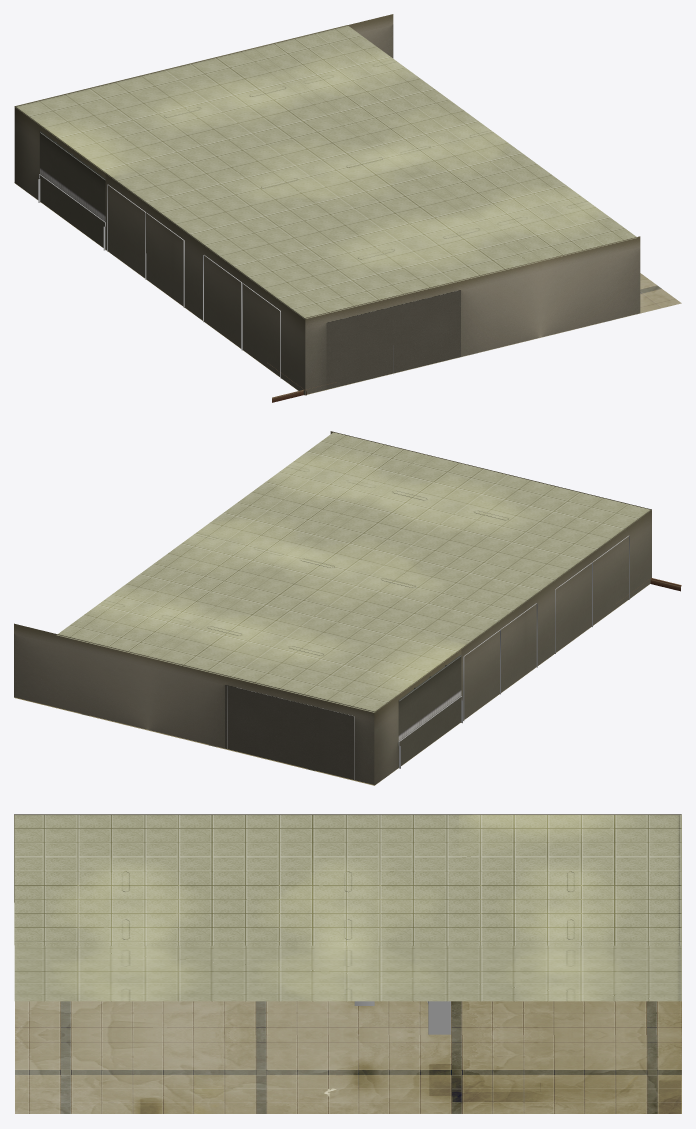
The model's file is GengYiShi_01.FBX.
3 views of the same model, one above another, from view 1: azimuth 30°, elevation 25°; view 2: azimuth 150°, elevation 25°; view 3: azimuth 270°, elevation 25° (orthographic). The views are drawn at different scales.
Visible parts, largest first — view 1: GengYiShi_fangding_01, GengYiShi_guizi_01; view 2: GengYiShi_fangding_01, GengYiShi_guizi_01; view 3: GengYiShi_fangding_01, GengYiShi_guizi_01.
Part boxes in pixels (x1,y1,x2,y2): GengYiShi_fangding_01: [14, 14, 681, 395]; GengYiShi_guizi_01: [107, 184, 393, 378]; GengYiShi_fangding_01: [14, 431, 651, 785]; GengYiShi_guizi_01: [227, 535, 629, 779]; GengYiShi_fangding_01: [14, 814, 681, 1113]; GengYiShi_guizi_01: [427, 1001, 450, 1034].
Bounding box in the file's own units: 7057 × 1281 × 8677.
